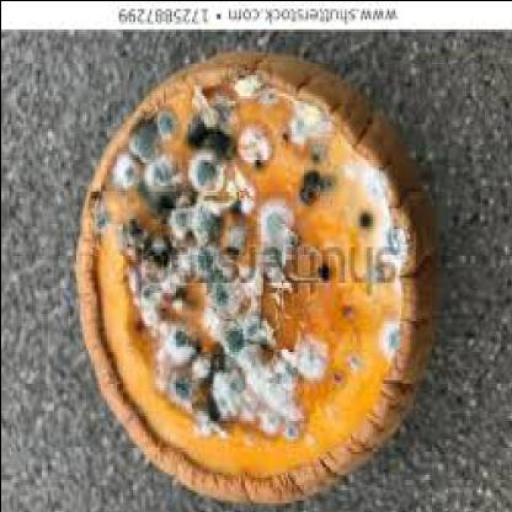biodegradable: (75, 57, 437, 507)
